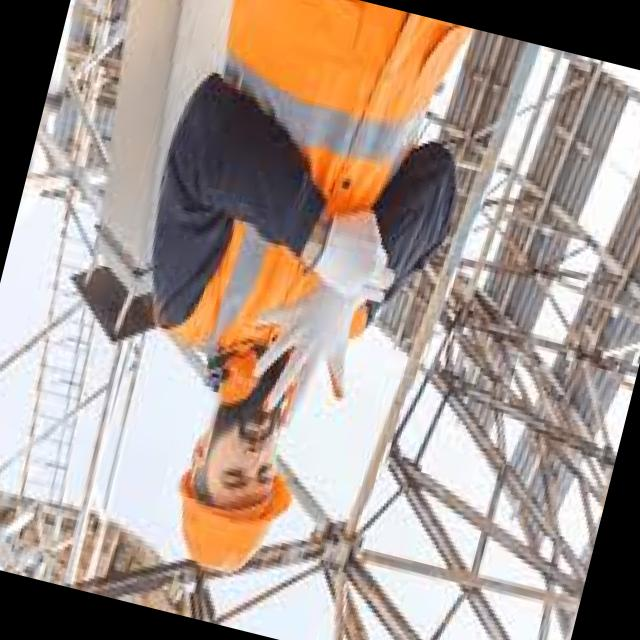gloved: (231, 274, 375, 448), (296, 194, 412, 312)
